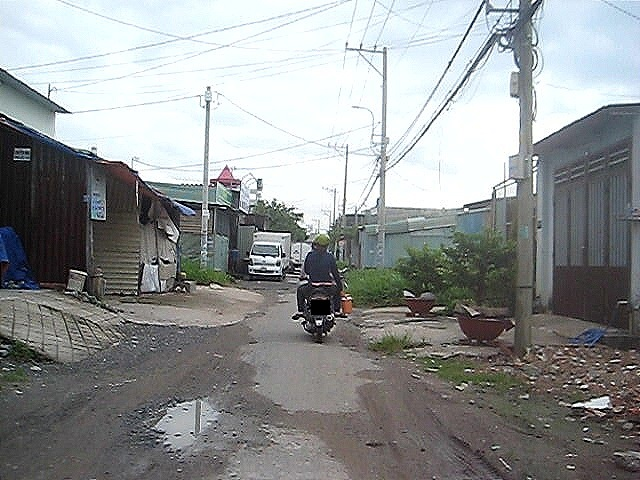hole: (129, 389, 233, 459)
